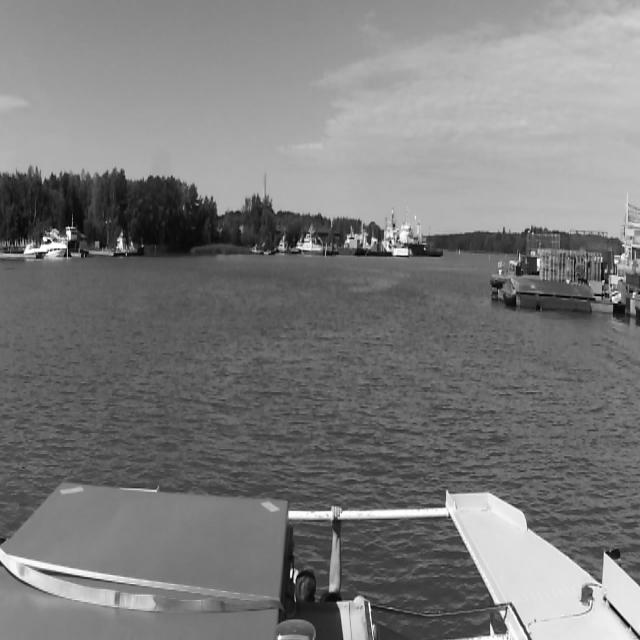ship: (399, 220, 443, 257), (114, 228, 144, 256), (24, 240, 68, 258), (296, 232, 324, 256), (336, 225, 358, 255), (108, 227, 130, 255), (276, 235, 288, 252), (252, 246, 263, 254)
